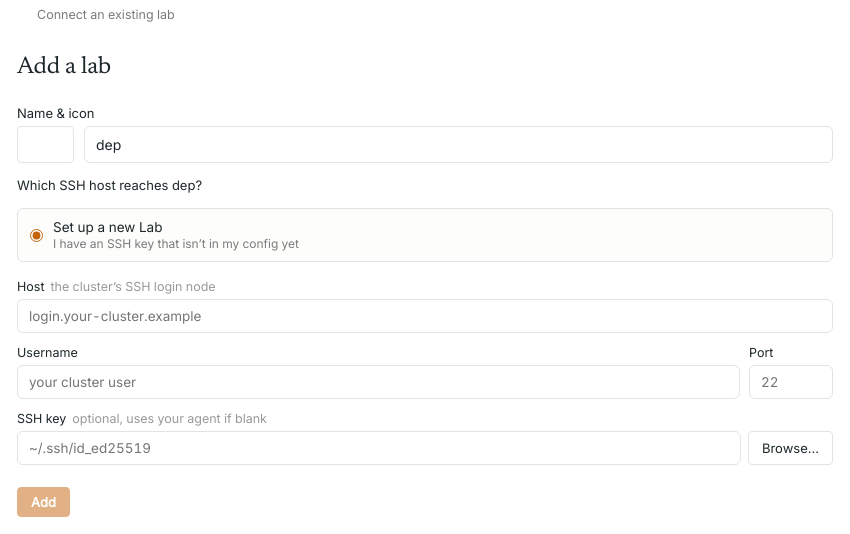
Test: ConfigureForm › shows test errors and save errors
The image size is (850, 534).
Type "h" into the field with placeholder "login.your-cluster.example" at [425, 316], box [17,299,833,333]
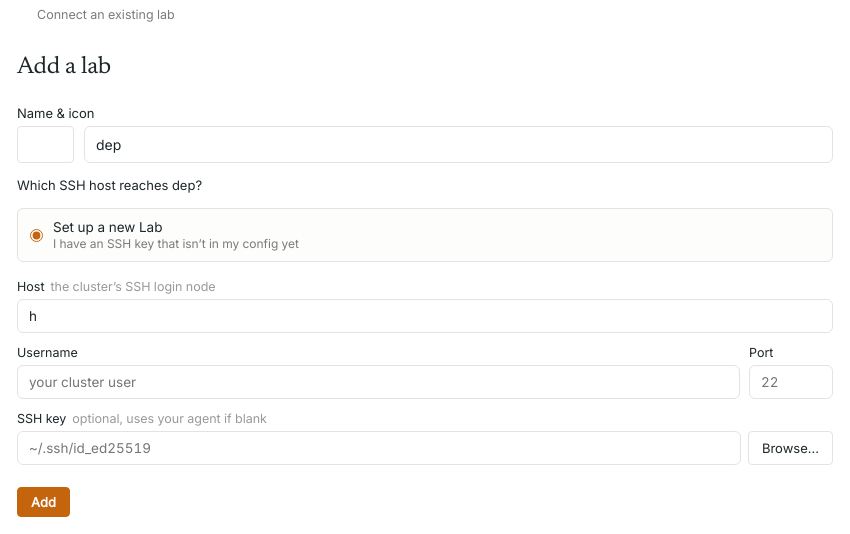
Click the button "Add" at [43, 502], box [17,487,70,517]
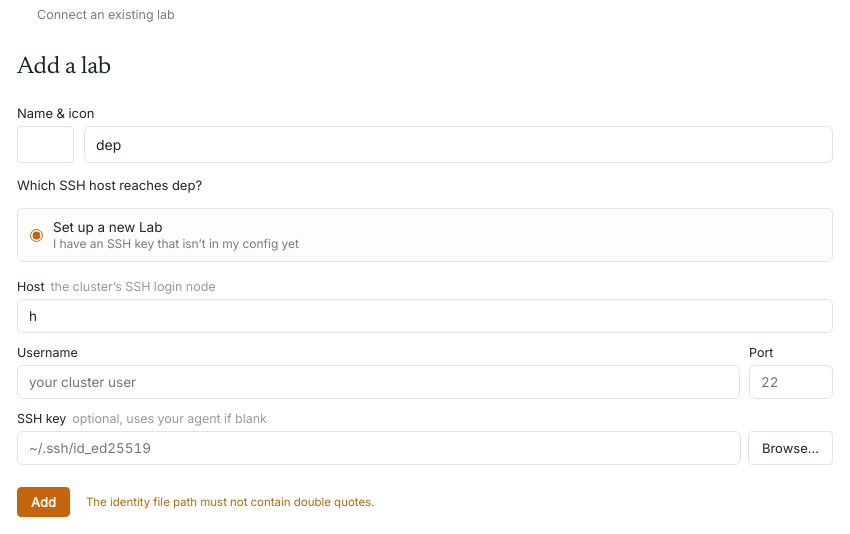
Check: the text "The identity file path must not contain double quotes." is shown, box [86,495,374,509]
